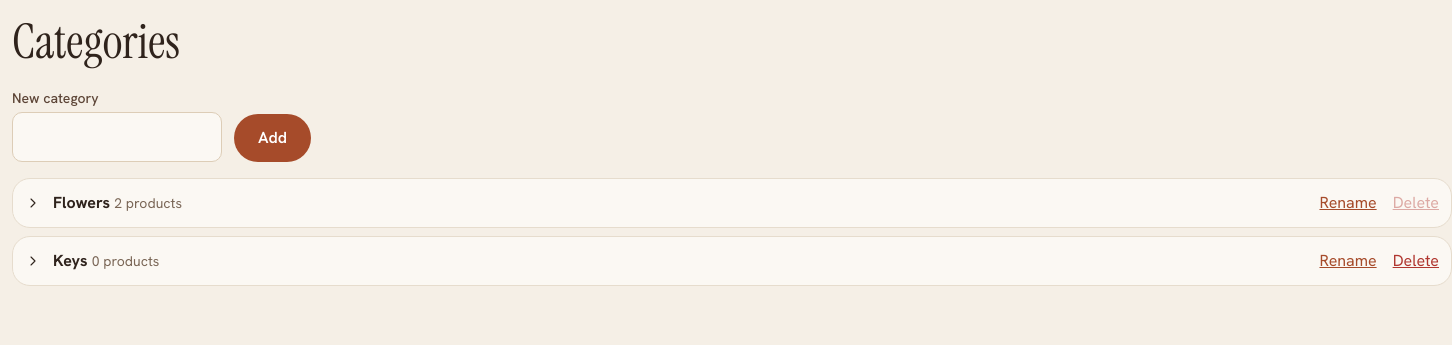
Test: explains duplicate names and refused deletions
This screenshot has width=1452, height=345.
Type "Flowers" into the field labelled "New category".
click(117, 137); type("Flowers")  # box left=12, top=112, right=222, bottom=162
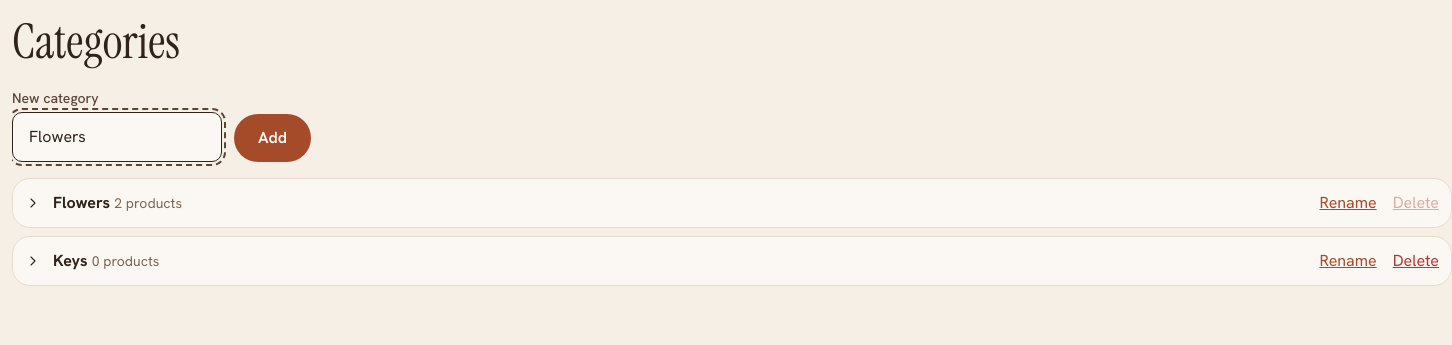
Click the button "Add".
click(273, 138)  # box left=234, top=114, right=311, bottom=162
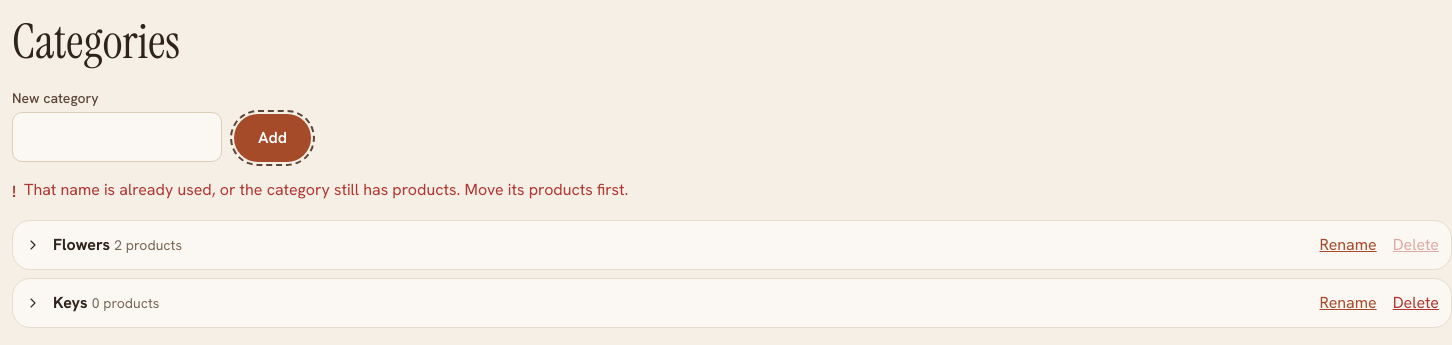
Result: the message shows "already used" at left=24, top=179, right=628, bottom=200
